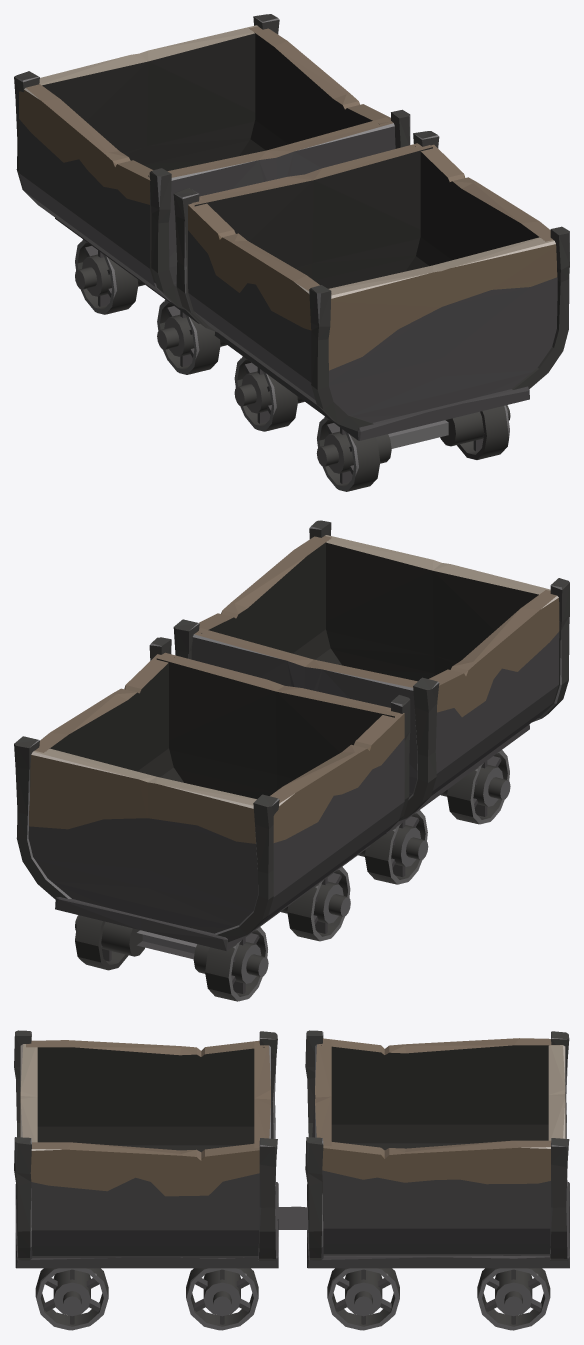
Rendered from BG_glodcart01.fbx.
3 renders of one model, top to bottom at view 1: azimuth 30°, elevation 25°; view 2: azimuth 150°, elevation 25°; view 3: azimuth 270°, elevation 25°, orthographic. The views are drawn at different scales.
Visible parts, largest first — view 1: BG_TrainTrack_005; view 2: BG_TrainTrack_005; view 3: BG_TrainTrack_005.
Boxes of the visible parts, left/top/right/bottom form: BG_TrainTrack_005: left=14, top=14, right=569, bottom=491; BG_TrainTrack_005: left=14, top=520, right=569, bottom=1001; BG_TrainTrack_005: left=14, top=1030, right=569, bottom=1330.
Size of the model in its own units: 19.76 by 16.92 by 40.51.
Materials: 1 (1 with a texture image).
